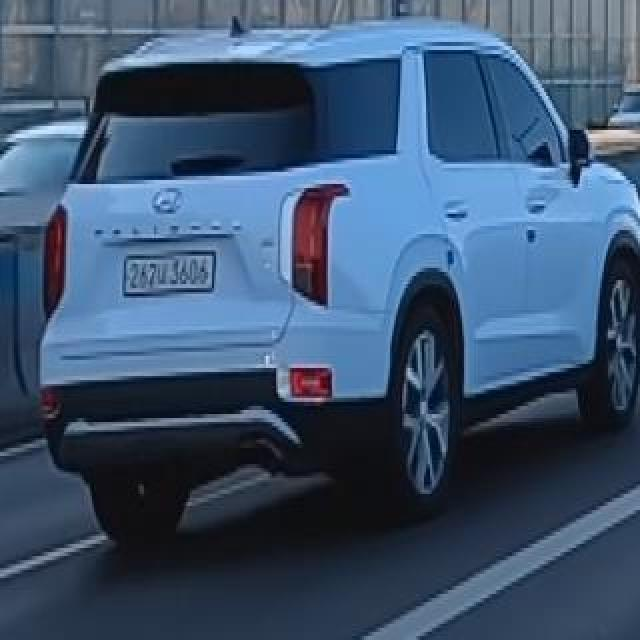car: (25, 15, 640, 542)
illegal_plate: (124, 253, 218, 300)
